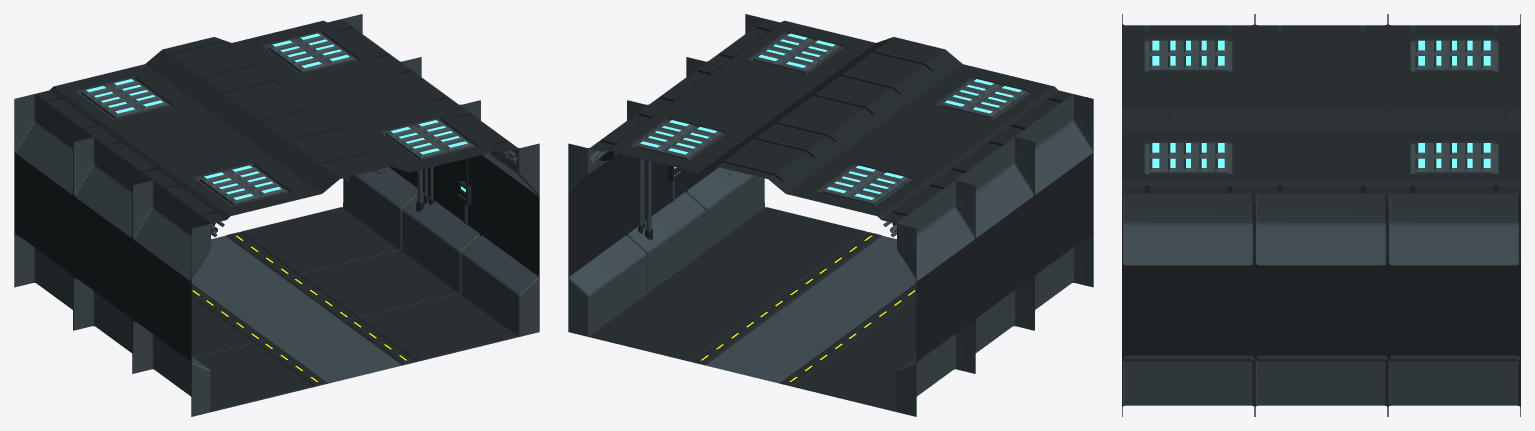
Rendered from hallwayStraight01.fbx.
The picture shows the model from 3 angles, left to right: view 1: azimuth 30°, elevation 25°; view 2: azimuth 150°, elevation 25°; view 3: azimuth 270°, elevation 25°; orthographic projection. The views are drawn at different scales.
Parts seen in each view (by area): view 1: hallwayStraight01; view 2: hallwayStraight01; view 3: hallwayStraight01.
Part boxes in pixels (bbox=[...]): hallwayStraight01: bbox=[14, 14, 539, 416]; hallwayStraight01: bbox=[568, 14, 1093, 416]; hallwayStraight01: bbox=[1122, 14, 1520, 416].
Size of what is drawn, in the model's own units: 6.8 by 6 by 3.77.
